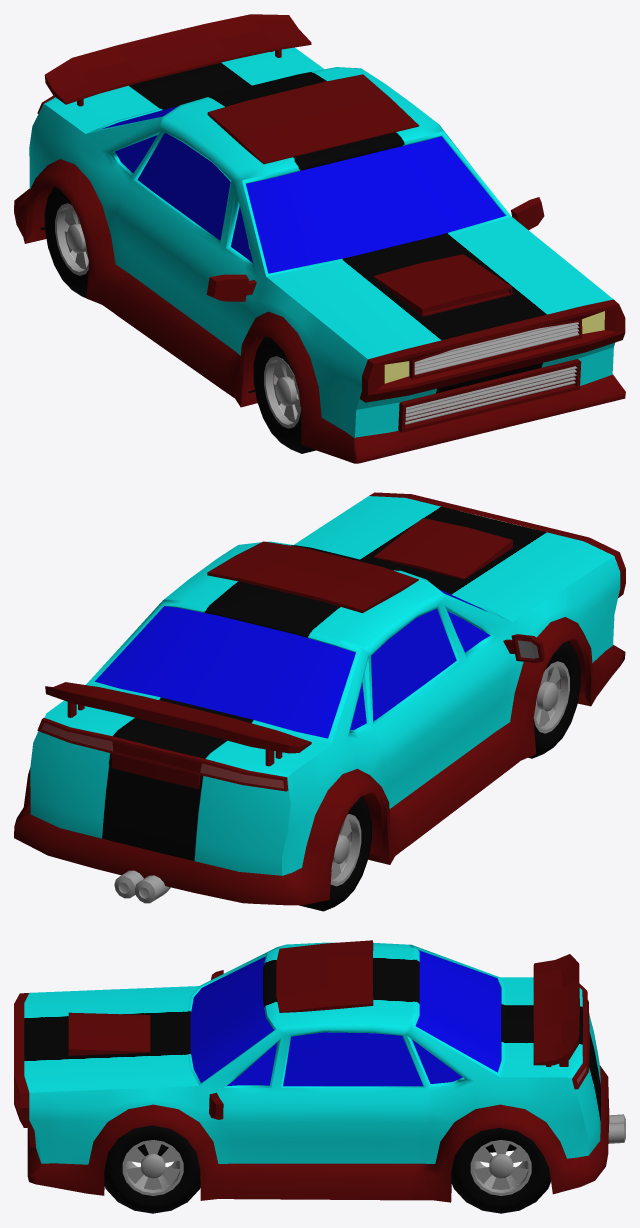
Rendered from Muscle Evolution3 DarkRed LineBlackCyan Blue LightGrey.glb.
3 renders of one model, top to bottom at view 1: azimuth 30°, elevation 25°; view 2: azimuth 150°, elevation 25°; view 3: azimuth 270°, elevation 25°, orthographic. The views are drawn at different scales.
Visible parts, largest first — view 1: evo3_body1_f1_dupl, evo3_sill3_f1_dupl, evo3_frontGlass_f1_dupl, evo3_rooftop3_f1_dupl, evo3_spoiler3_f1_dupl, evo3_frontBlockGrid3_f1_dupl, evo3_glasseBigR_f1_dupl, evo3_airtrap_front4_f1_dupl, evo3_blockgrid3_f1_dupl, evo3_gridfrontbot3_f1_dupl, evo3_gridfrontup3_f1_dupl, evo3_tire_rf1_f1_dupl (+6 smaller); view 2: evo3_body1_f1_dupl, evo3_sill3_f1_dupl, evo3_BackGlassGlass_f1_dupl, evo3_rooftop3_f1_dupl, evo3_spoiler3_f1_dupl, evo3_glasseBigR_f1_dupl, evo3_airtrap_front4_f1_dupl, evo3_blockbacklight_f1_dupl, evo3_rim_A_rf_f1_dupl, evo3_tire_rf1_f1_dupl, evo3_tire_rf_f1_dupl, evo3_frontBlockGrid3_f1_dupl (+6 smaller); view 3: evo3_body1_f1_dupl, evo3_sill3_f1_dupl, evo3_BackGlassGlass_f1_dupl, evo3_glasseBigL_f1_dupl, evo3_frontGlass_f1_dupl, evo3_rooftop3_f1_dupl, evo3_spoiler3_f1_dupl, evo3_tire_lf_f1_dupl, evo3_tire_lb_f1_dupl, evo3_airtrap_front4_f1_dupl, evo3_rim_A_lf_f1_dupl, evo3_rim_A_lb_f1_dupl (+5 smaller).
Boxes of the visible parts, box(x1,y1,x2,y2) form: evo3_body1_f1_dupl: box(29, 47, 614, 438); evo3_sill3_f1_dupl: box(14, 159, 625, 463); evo3_frontGlass_f1_dupl: box(246, 136, 505, 273); evo3_rooftop3_f1_dupl: box(207, 74, 419, 164); evo3_spoiler3_f1_dupl: box(44, 14, 311, 106); evo3_frontBlockGrid3_f1_dupl: box(360, 299, 625, 402); evo3_glasseBigR_f1_dupl: box(137, 133, 230, 240); evo3_airtrap_front4_f1_dupl: box(373, 254, 512, 316); evo3_blockgrid3_f1_dupl: box(398, 359, 581, 432); evo3_gridfrontbot3_f1_dupl: box(405, 366, 577, 424); evo3_gridfrontup3_f1_dupl: box(414, 322, 579, 374); evo3_tire_rf1_f1_dupl: box(253, 336, 315, 453); evo3_body1_f1_dupl: box(30, 496, 620, 875); evo3_sill3_f1_dupl: box(14, 617, 625, 905); evo3_BackGlassGlass_f1_dupl: box(95, 606, 355, 738); evo3_rooftop3_f1_dupl: box(207, 541, 418, 613); evo3_spoiler3_f1_dupl: box(45, 682, 311, 766); evo3_glasseBigR_f1_dupl: box(371, 608, 456, 721); evo3_airtrap_front4_f1_dupl: box(374, 518, 512, 579); evo3_blockbacklight_f1_dupl: box(37, 718, 288, 791); evo3_rim_A_rf_f1_dupl: box(533, 661, 569, 733); evo3_tire_rf1_f1_dupl: box(528, 641, 580, 758); evo3_tire_rf_f1_dupl: box(299, 796, 371, 911); evo3_frontBlockGrid3_f1_dupl: box(369, 492, 625, 597); evo3_body1_f1_dupl: box(24, 942, 601, 1164); evo3_sill3_f1_dupl: box(27, 1065, 609, 1202); evo3_BackGlassGlass_f1_dupl: box(415, 950, 501, 1072); evo3_glasseBigL_f1_dupl: box(283, 1032, 423, 1086); evo3_frontGlass_f1_dupl: box(190, 956, 273, 1083); evo3_rooftop3_f1_dupl: box(276, 940, 373, 1012); evo3_spoiler3_f1_dupl: box(533, 954, 579, 1066); evo3_tire_lf_f1_dupl: box(104, 1125, 200, 1213); evo3_tire_lb_f1_dupl: box(451, 1127, 550, 1213); evo3_airtrap_front4_f1_dupl: box(68, 1012, 150, 1055); evo3_rim_A_lf_f1_dupl: box(122, 1140, 183, 1195); evo3_rim_A_lb_f1_dupl: box(470, 1140, 531, 1195).
Bounding box in the file's own units: 177 × 116 × 335.
Materials: 8 (1 with a texture image).
